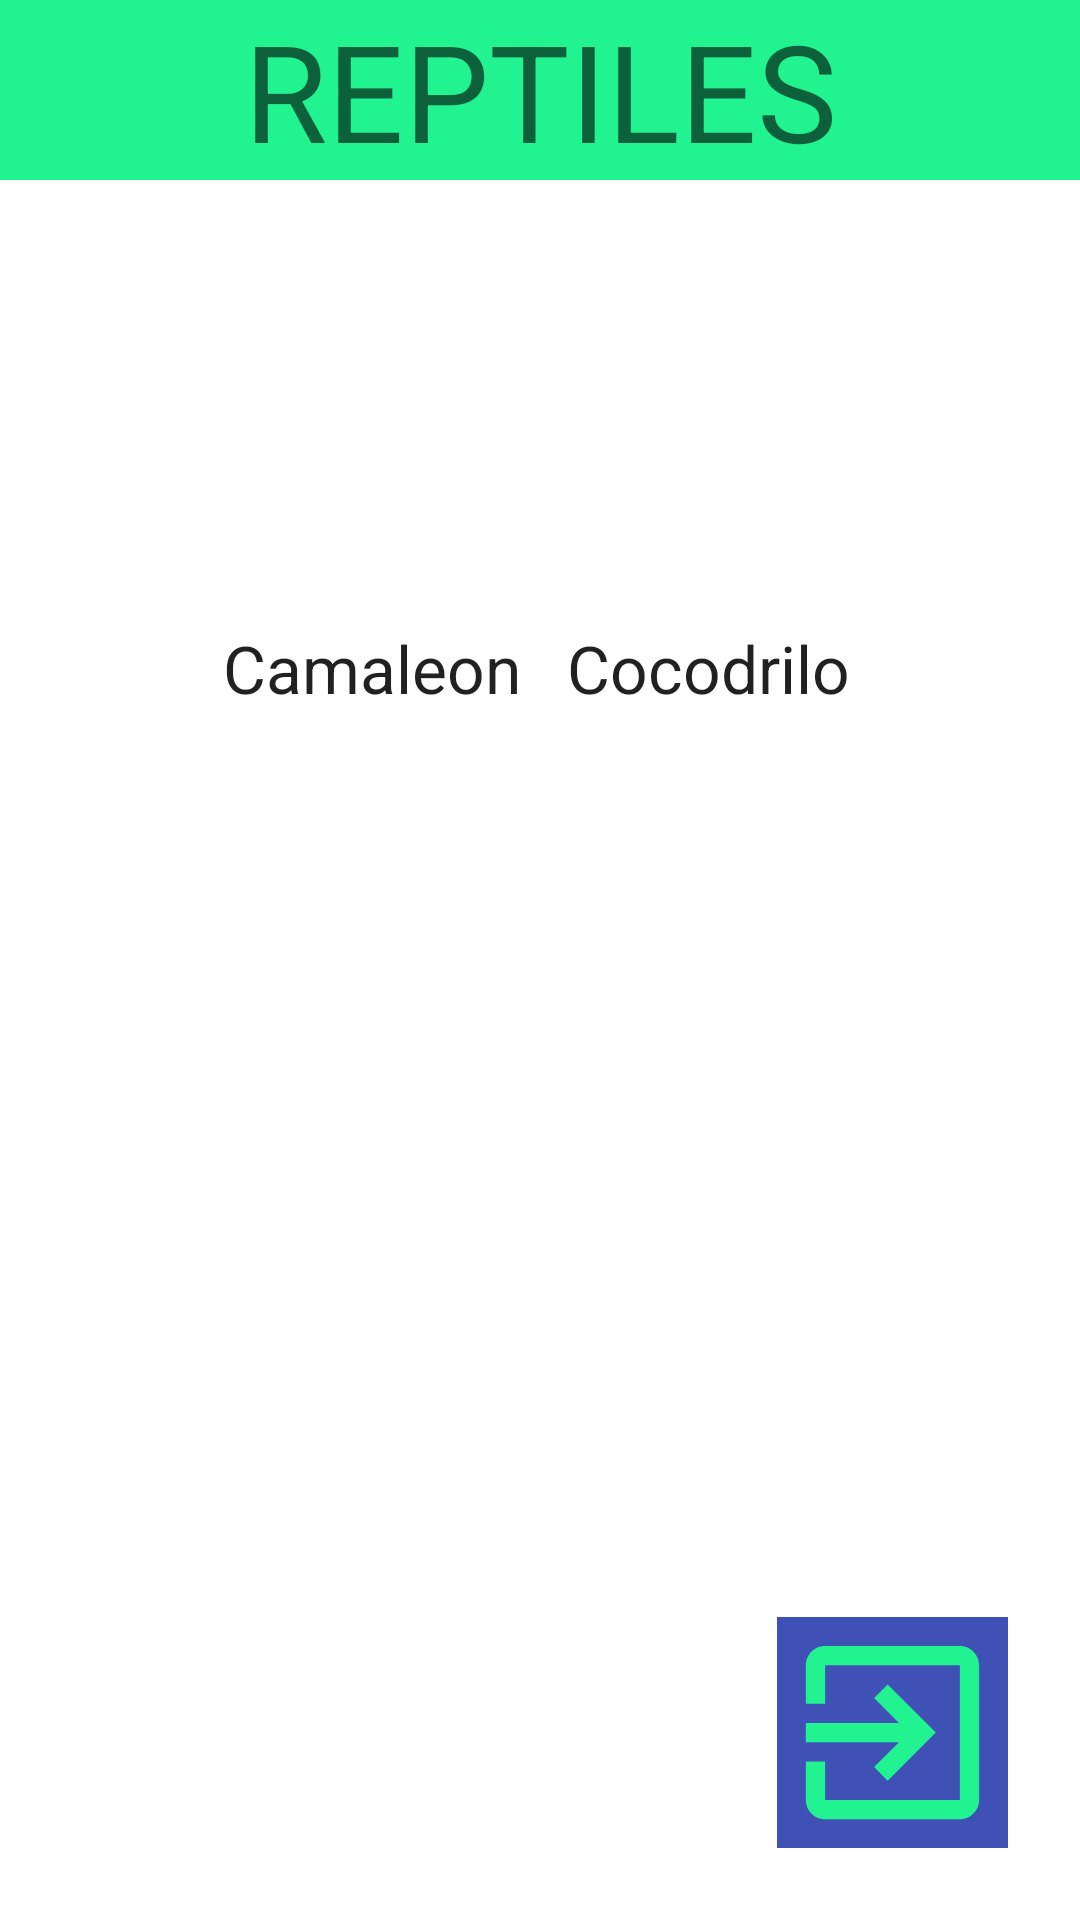

Named icons in this screenshot (1080px×1920px) and their centers, [x,y]:
exit to app: [892,1732]
